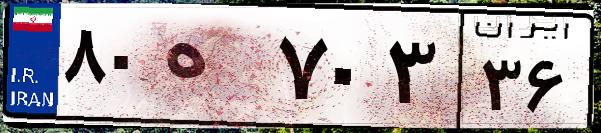0: (330, 28, 385, 110), (110, 28, 158, 98)
3: (385, 28, 445, 110), (475, 38, 525, 113)
6: (525, 38, 570, 115)
7: (270, 28, 330, 110)
8: (57, 26, 110, 100)
ه: (158, 20, 270, 120)
